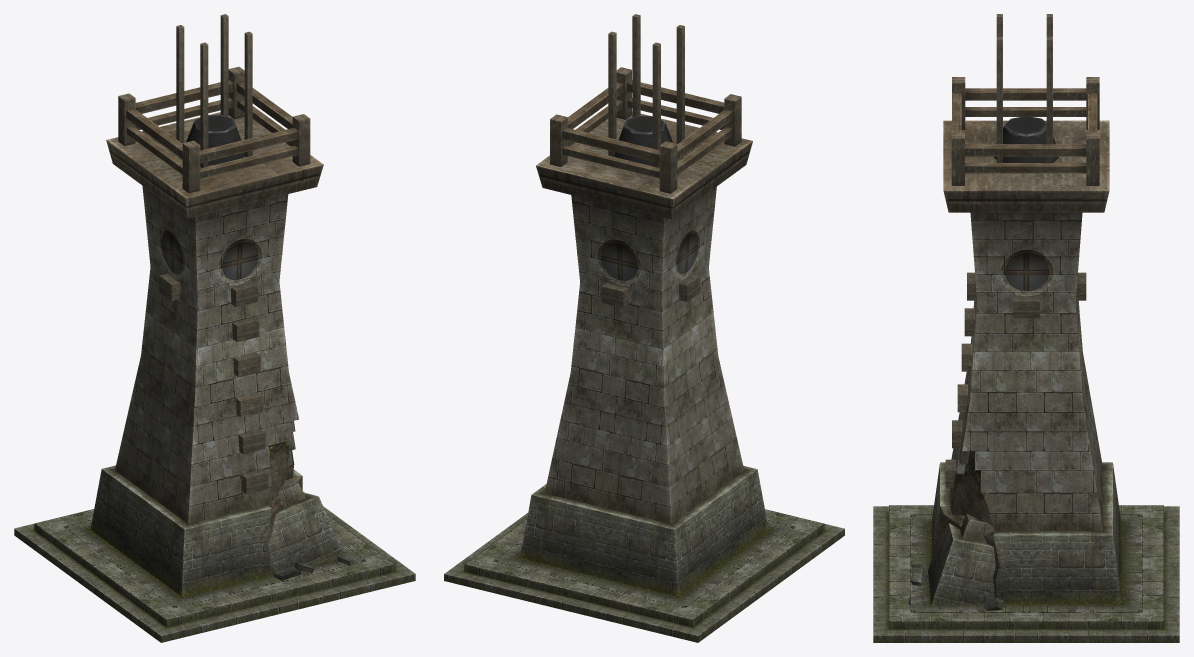
The model's file is zshh_dengta_01.FBX.
The picture shows the model from 3 angles, left to right: view 1: azimuth 30°, elevation 25°; view 2: azimuth 150°, elevation 25°; view 3: azimuth 270°, elevation 25°; orthographic projection. The views are drawn at different scales.
Visible parts, largest first — view 1: zshh_dengta_01; view 2: zshh_dengta_01; view 3: zshh_dengta_01.
Part boxes in pixels (x1,y1,x2,y2): zshh_dengta_01: (14, 14, 415, 642); zshh_dengta_01: (444, 14, 844, 642); zshh_dengta_01: (873, 14, 1179, 642).
Bounding box in the file's own units: 665 × 665 × 1327.
